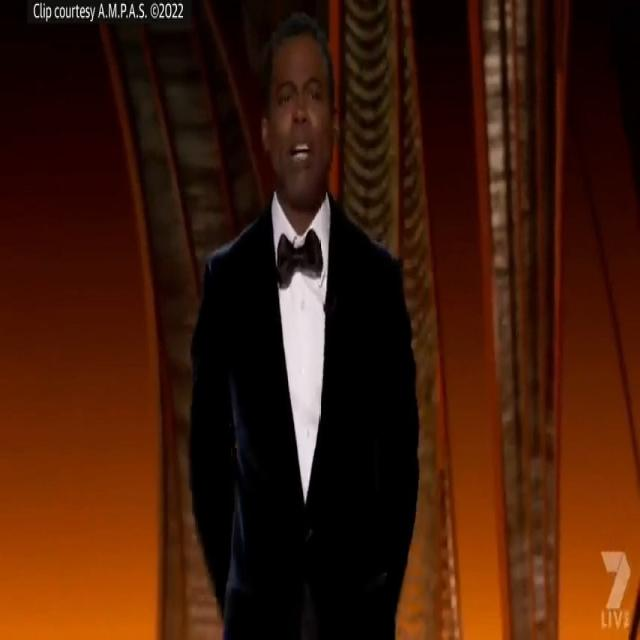non-fight: (180, 6, 426, 640)
